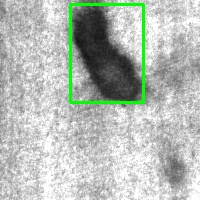patches: (70, 4, 143, 102)
